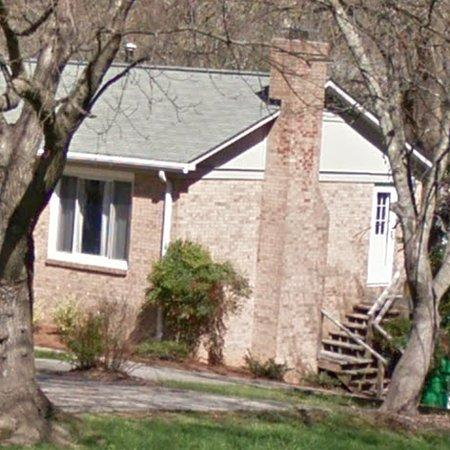chimneys: (253, 38, 330, 374)
